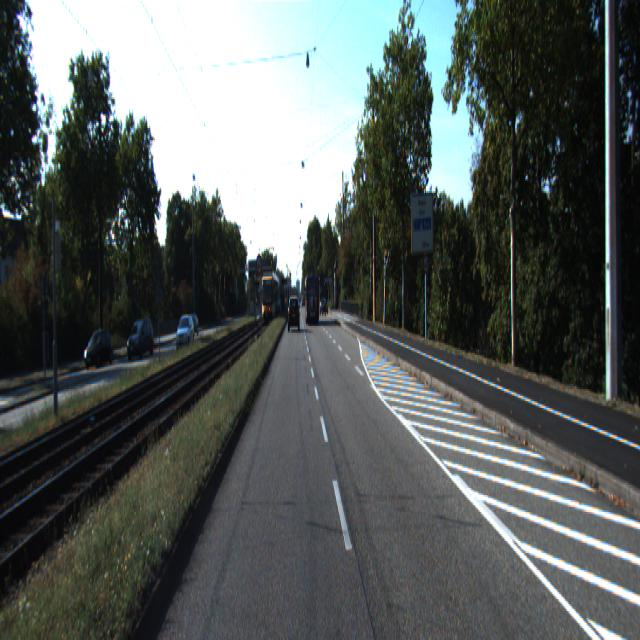Car: (126, 318, 155, 363), (82, 330, 114, 370), (304, 276, 320, 325), (176, 315, 196, 352), (288, 295, 300, 331)
